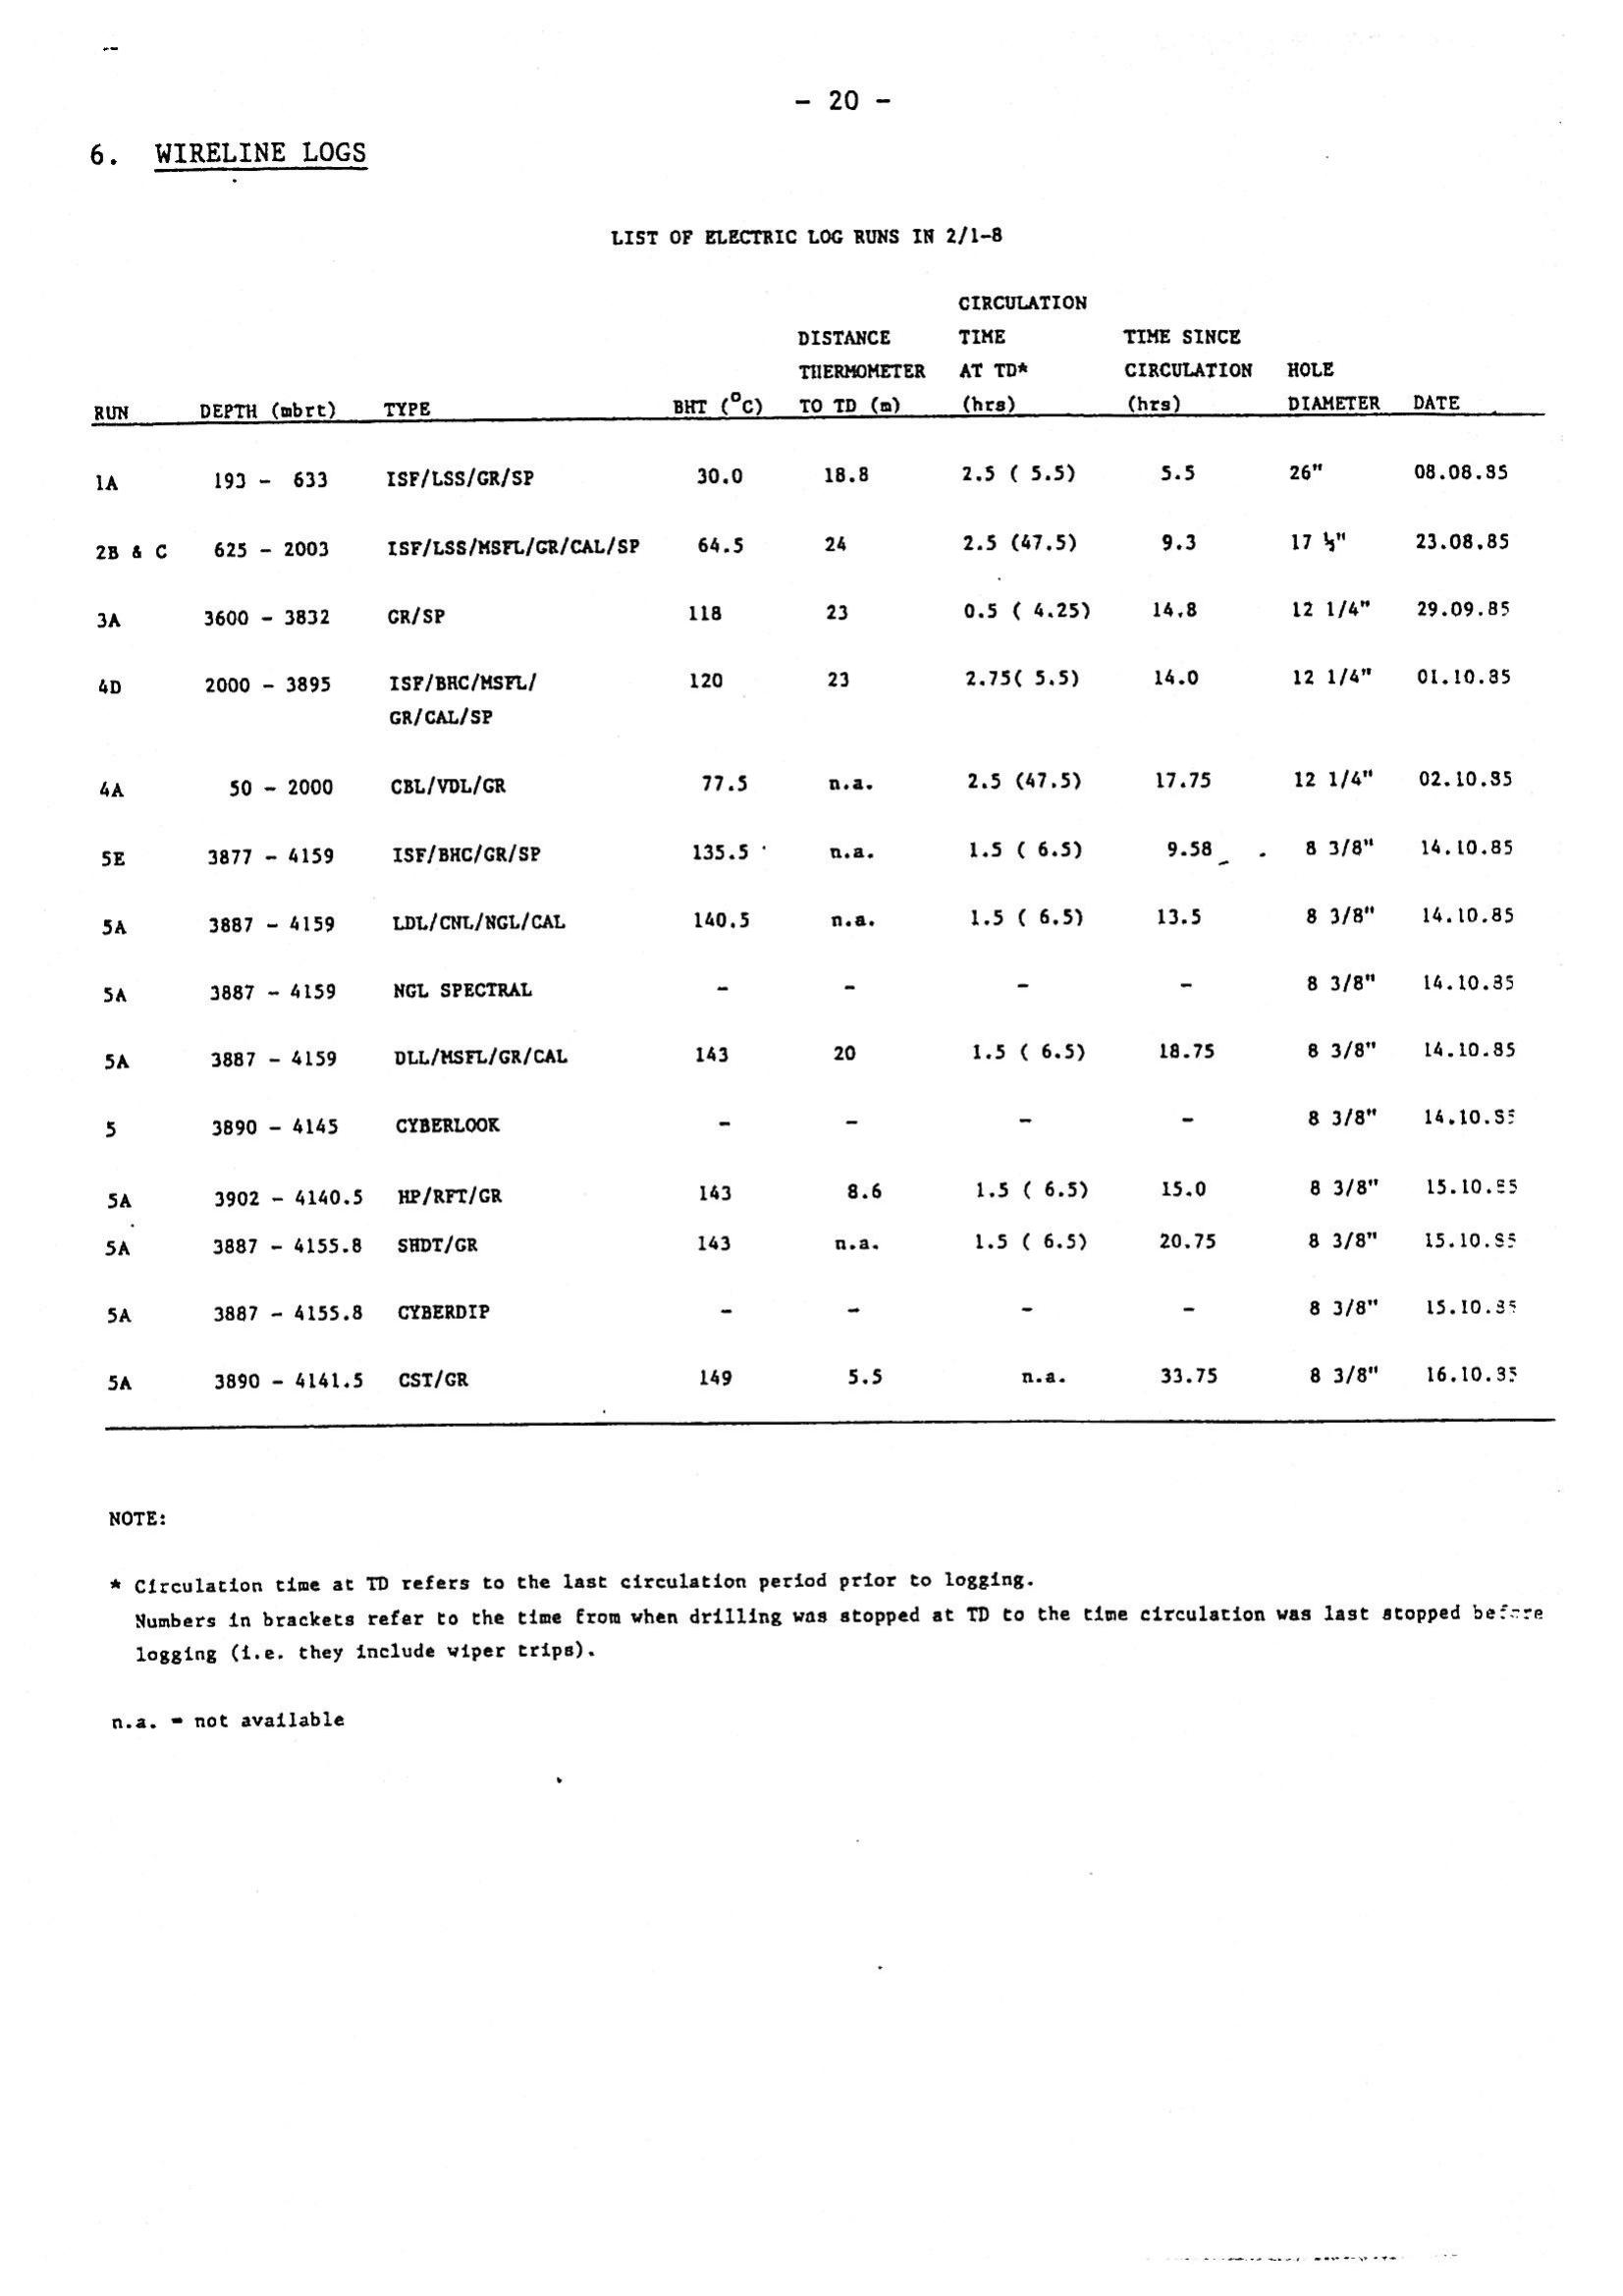table: (69, 199, 1577, 1467)
text: (70, 1491, 1562, 1774), (65, 132, 392, 190)
